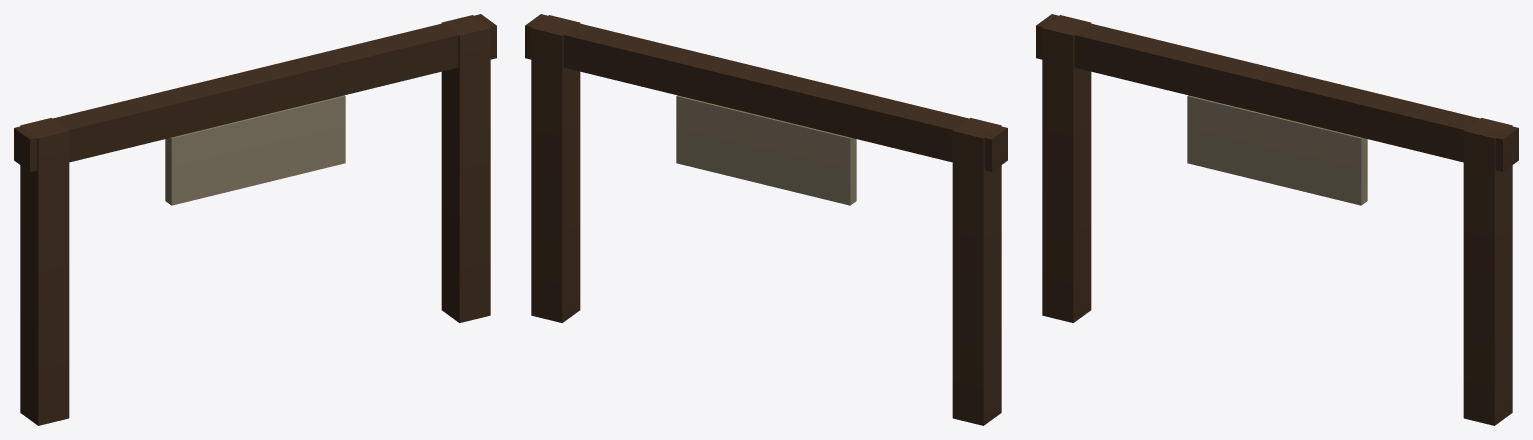
File: ranch_gate.glb
3 renders of one model, left to right at view 1: azimuth 30°, elevation 25°; view 2: azimuth 150°, elevation 25°; view 3: azimuth 330°, elevation 25°, orthographic.
Visible parts, largest first — view 1: prop; view 2: prop; view 3: prop.
Part boxes in pixels (x1,y1,x2,y2): prop: [14, 14, 496, 425]; prop: [525, 14, 1007, 425]; prop: [1036, 14, 1518, 425].
Bounding box in the file's own units: 5.1 × 3 × 0.34.
